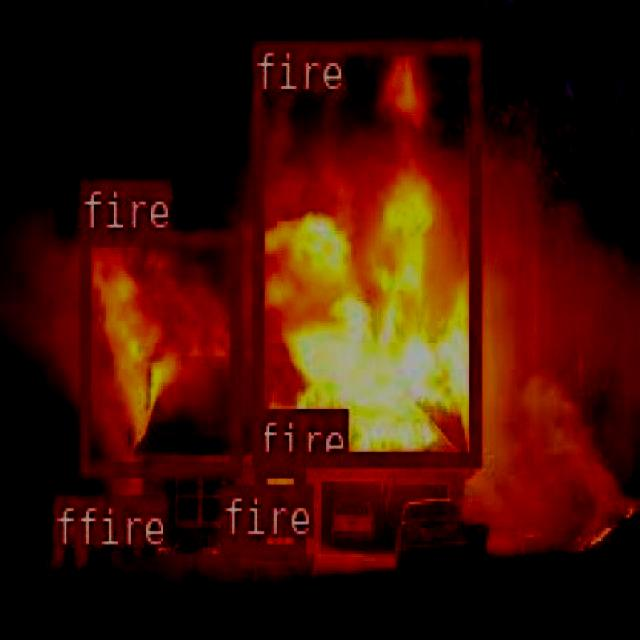fire: (250, 39, 478, 466), (78, 228, 239, 474), (253, 461, 304, 556), (220, 534, 254, 554), (74, 546, 86, 565), (51, 546, 60, 560)
